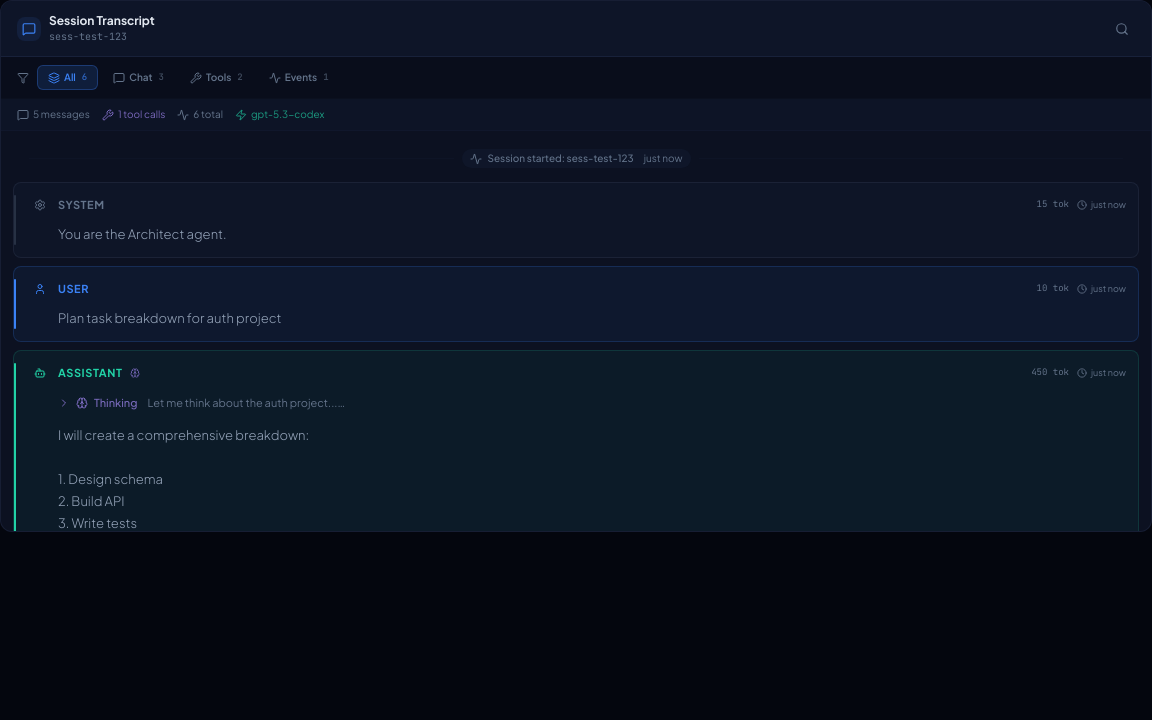
ConversationReplay › toggles search bar
Step 1. Click the 1st button → point(1122, 28), box [1109,16,1135,42]
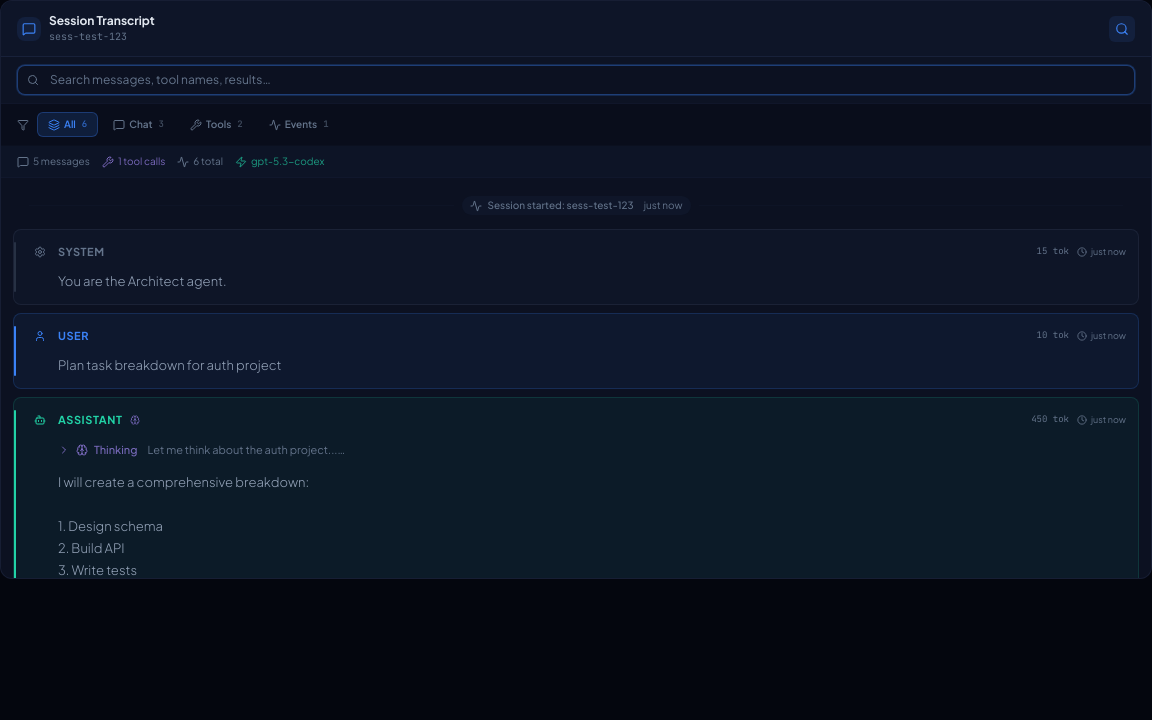
Now the field with placeholder "Search messages, tool names, results…" is shown, box [17,65,1135,95]
